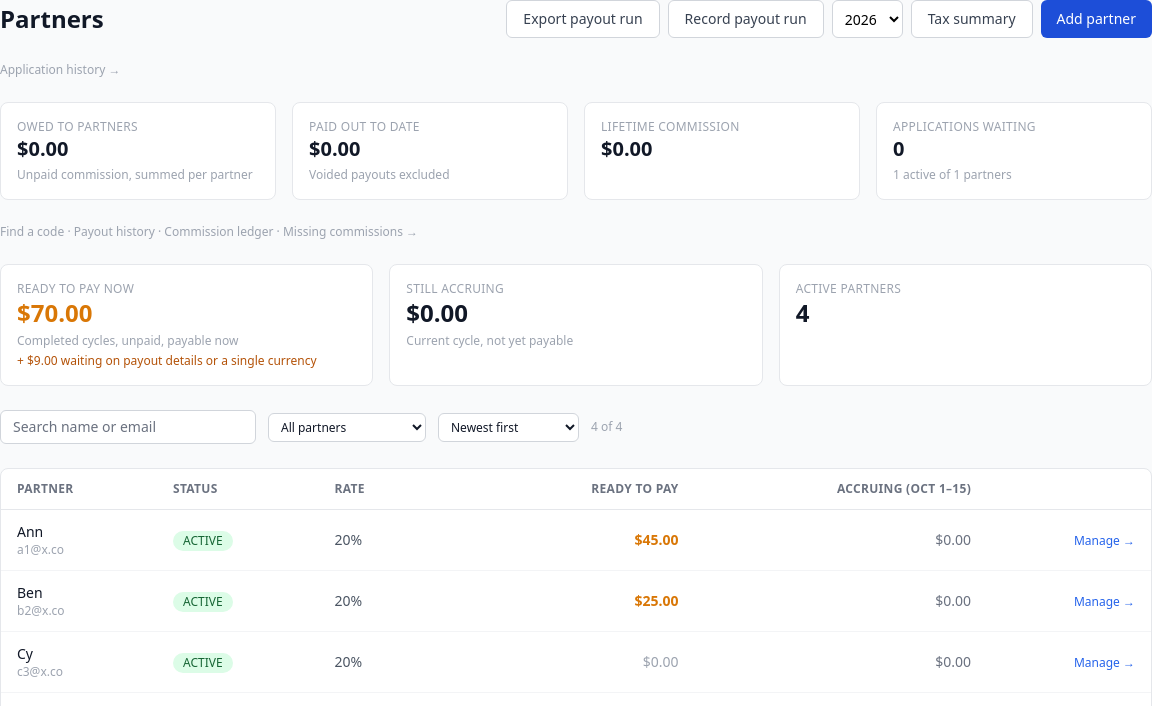
Scenario: Record payout run › cannot be submitted until the admin states the money has been sent
Click the button "Record payout run" at x=746, y=19, box [668,0,824,38]
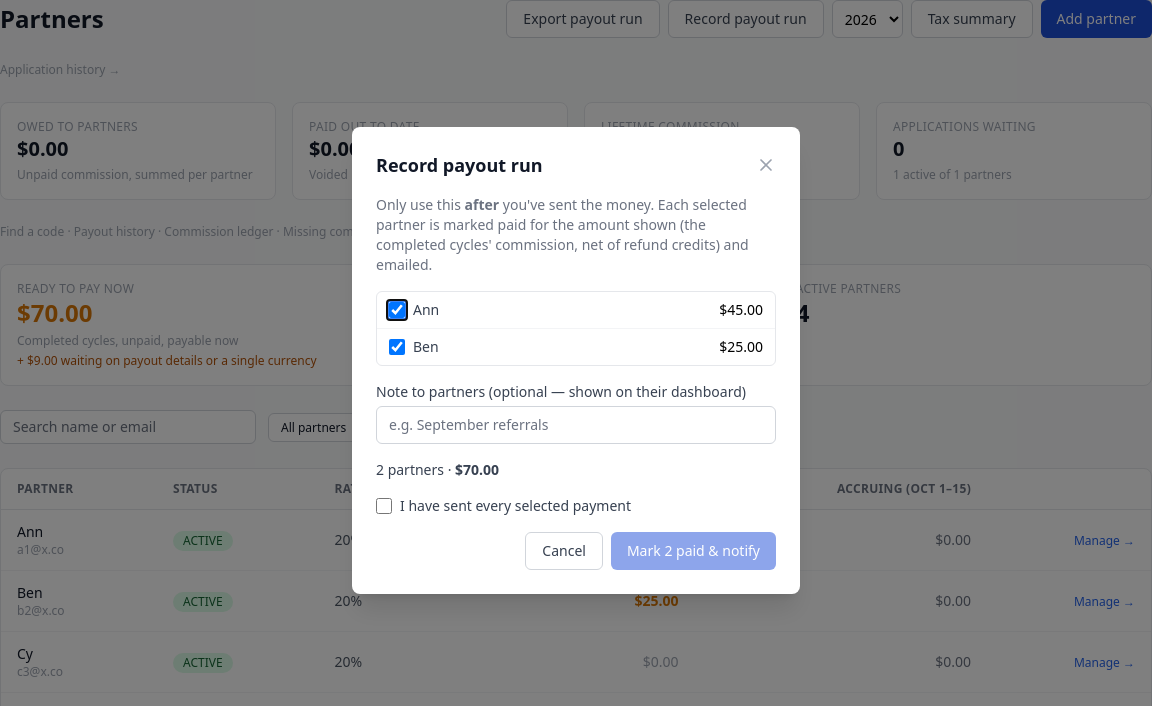
Expected: the button "Mark 2 paid & notify" is disabled, [611,532,776,570]
Click the checkbox labelled "I have sent every selected payment" at x=384, y=506, box [376,498,392,514]
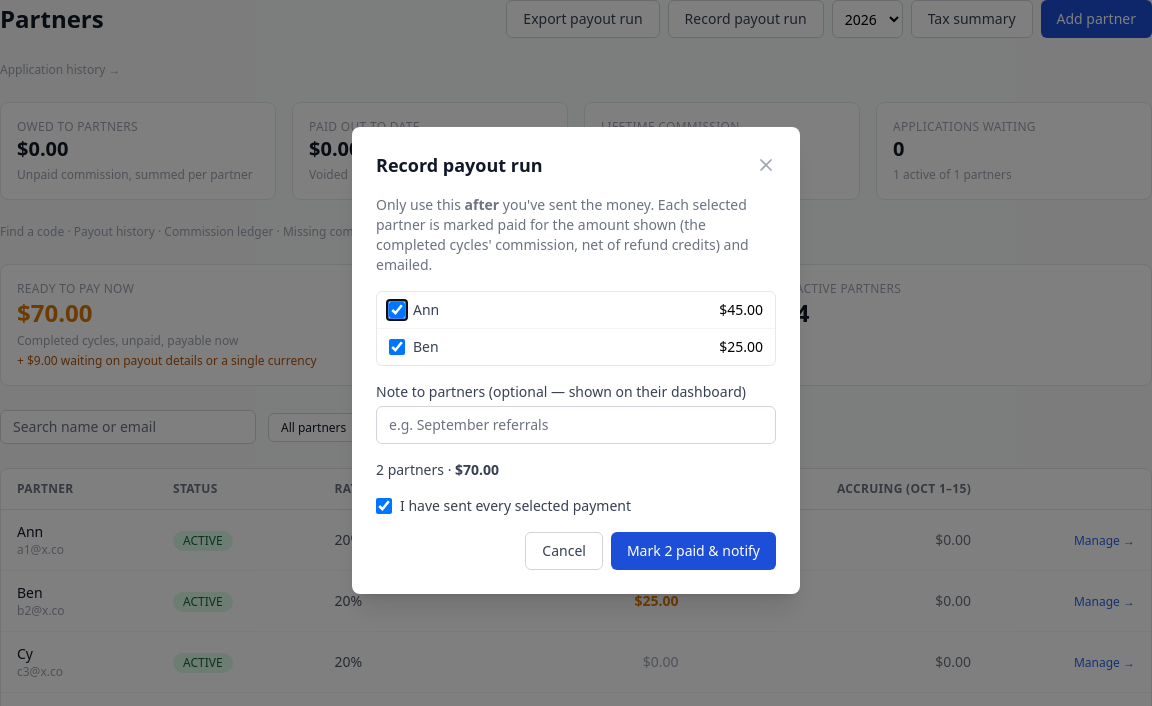
Expected: the button "Mark 2 paid & notify" is enabled, [611,532,776,570]
